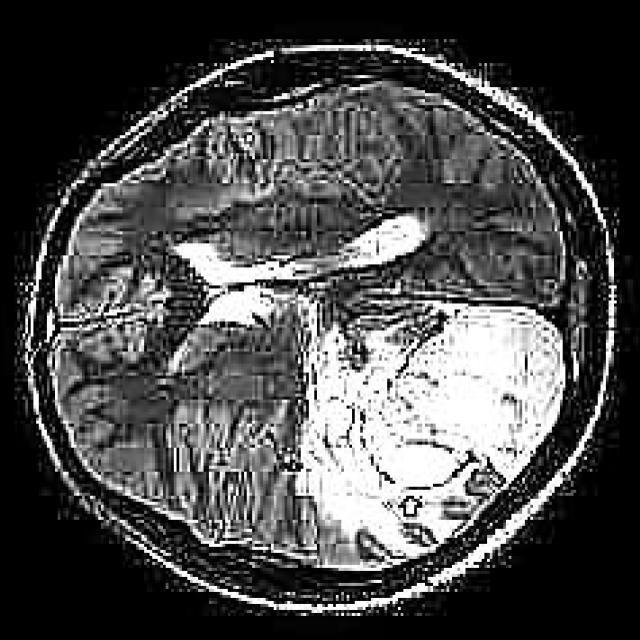tumor: (292, 306, 564, 574)
